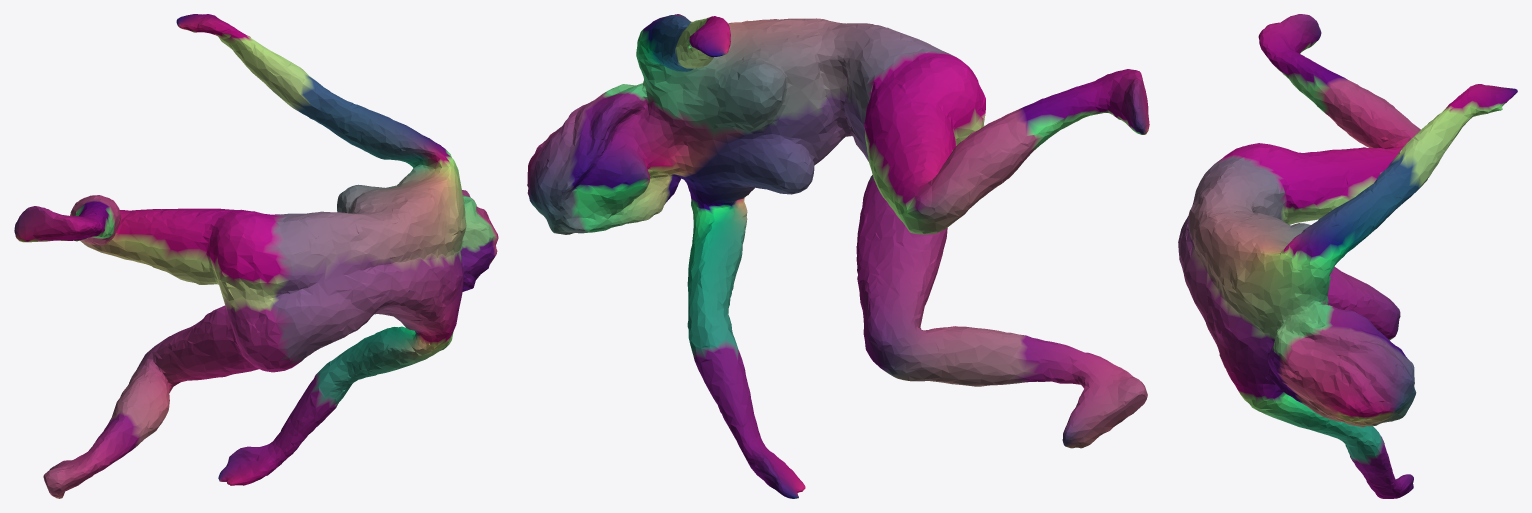
File: woman-12.off.obj
3 views of the same model, side by side, from view 1: azimuth 30°, elevation 25°; view 2: azimuth 150°, elevation 25°; view 3: azimuth 270°, elevation 25° (orthographic). The views are drawn at different scales.
Bounding box in the file's own units: 1.53 × 1.25 × 0.921.
